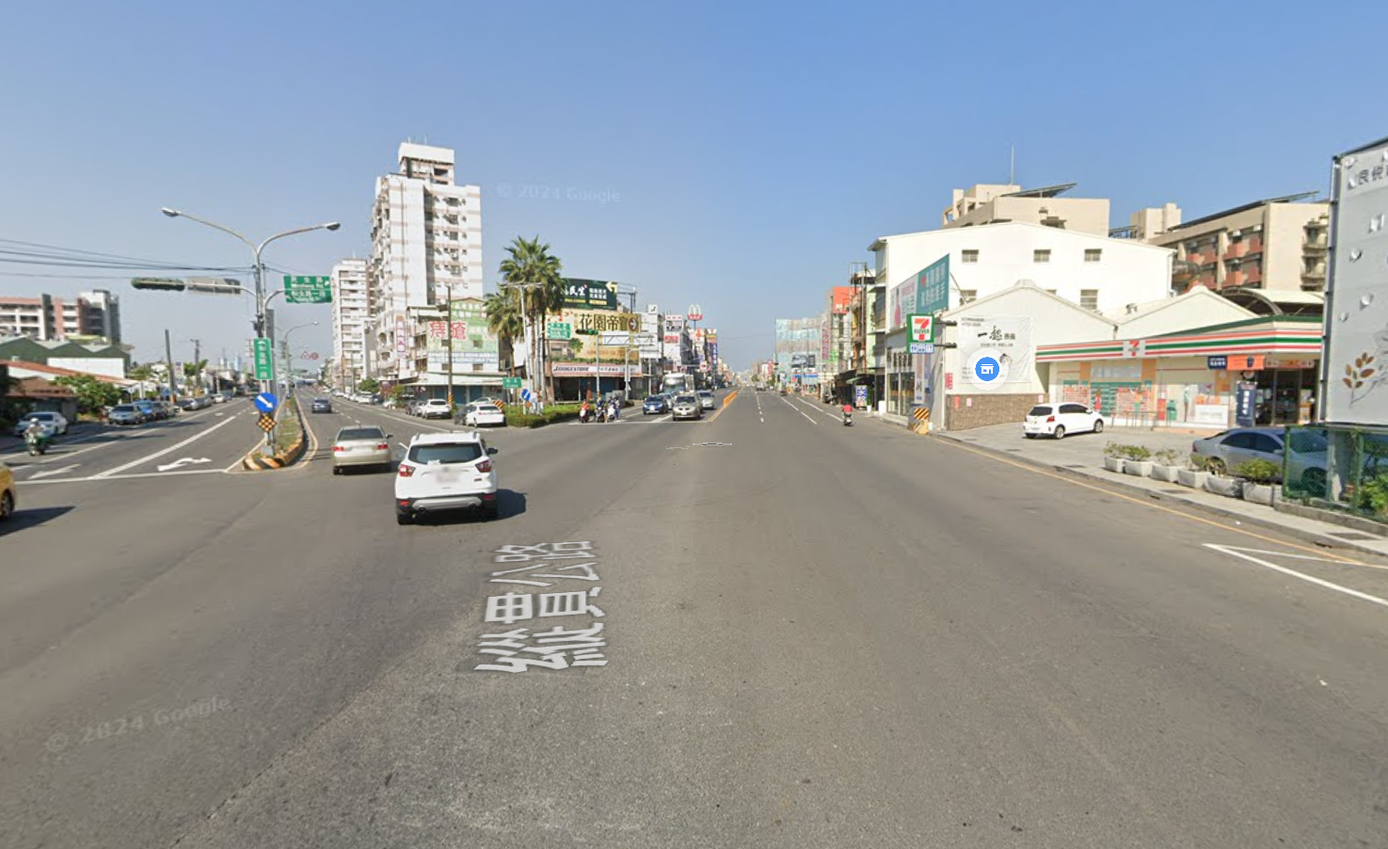green: (569, 326, 601, 338)
